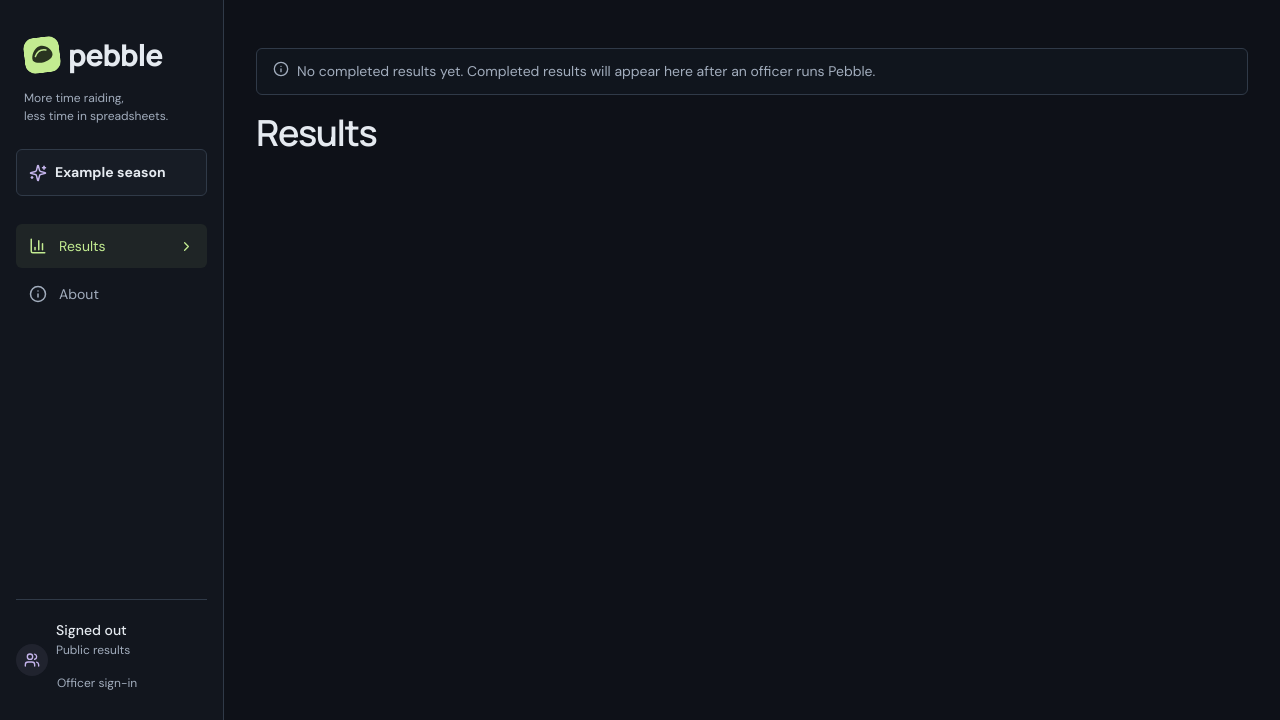
it: recovers from auth/popup-closed-by-user without displaying an SDK payload
Click the button "Officer sign-in" at (97, 684), box [56, 667, 138, 700]
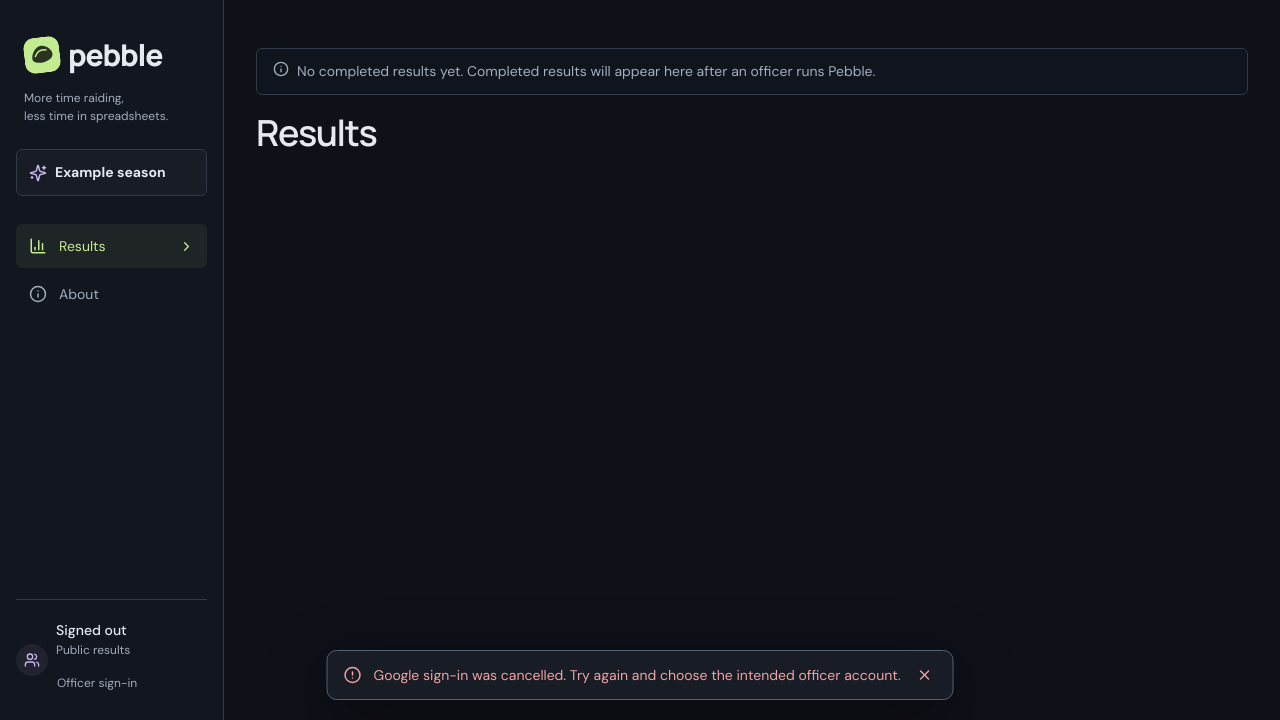
expect the text "sign-in was cancelled" is shown: met, box [374, 666, 900, 684]
